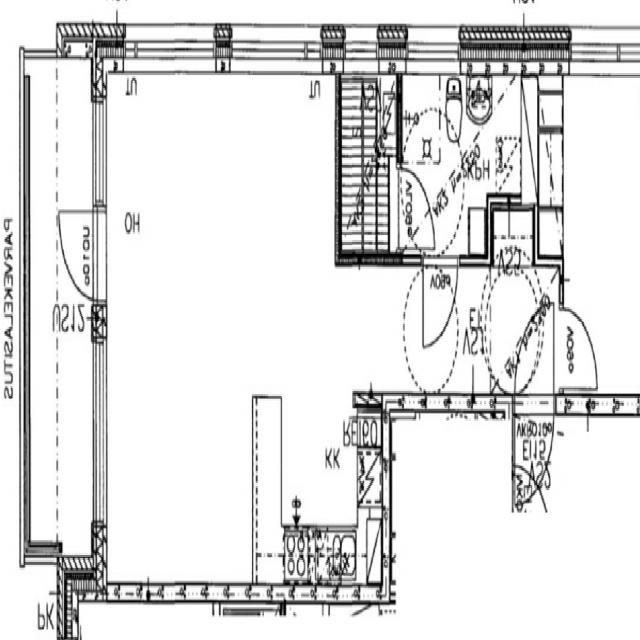door: (56, 210, 108, 300), (515, 301, 554, 415), (515, 393, 554, 506), (397, 168, 437, 248), (424, 256, 458, 346), (560, 312, 597, 387)
